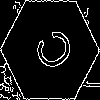C: (25, 25, 76, 79)
